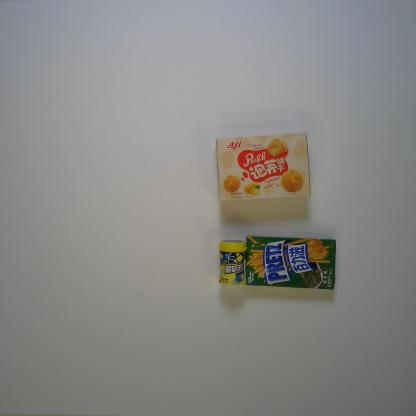Dessert: (213, 131, 312, 204), (245, 234, 337, 291)
Gum: (217, 238, 249, 288)
